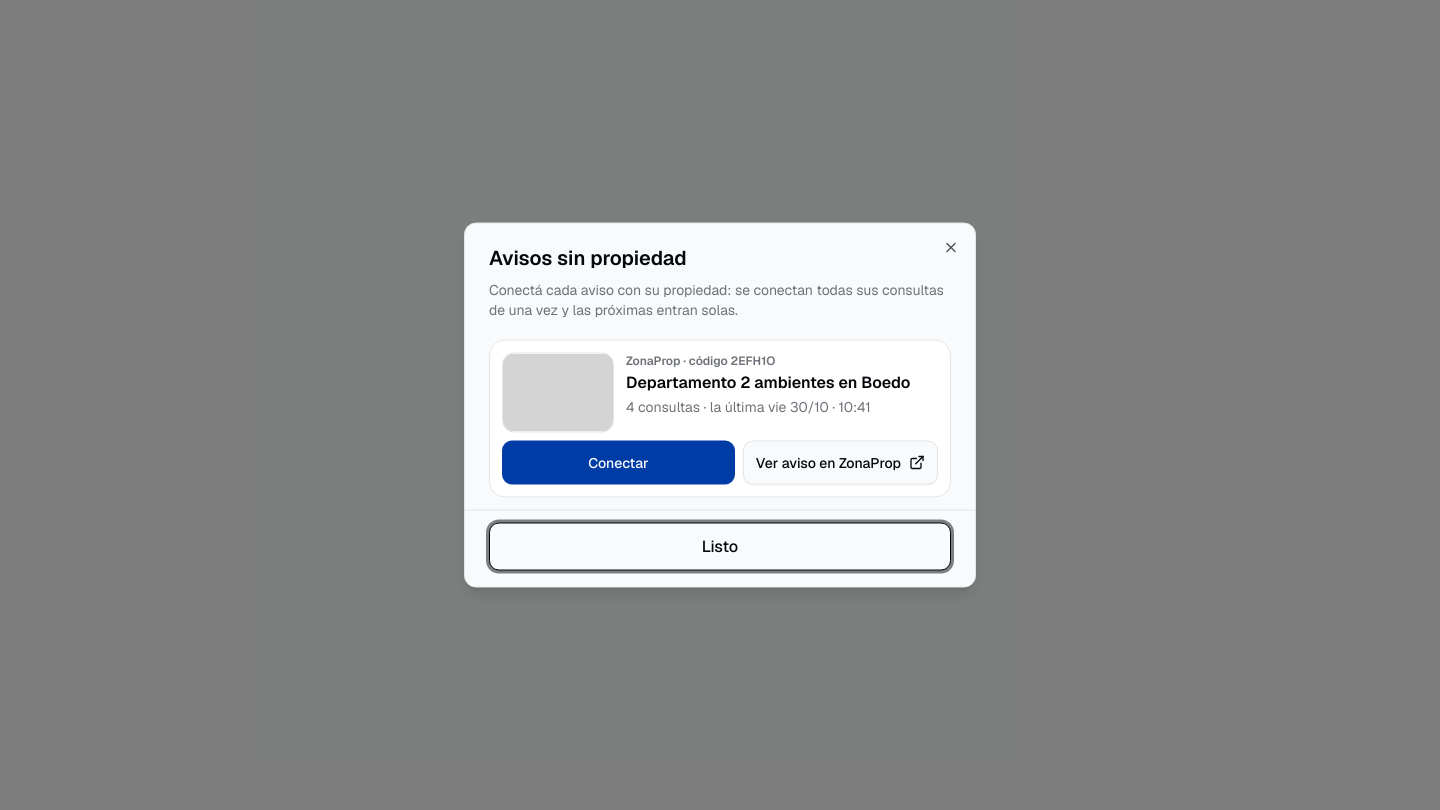
Test case: HojaAvisosSinPropiedad › pegar el link elige la propiedad si el aviso se publicó desde la plataforma
Click the button "Conectar" at coordinates (618, 462), box [502,440,735,484]
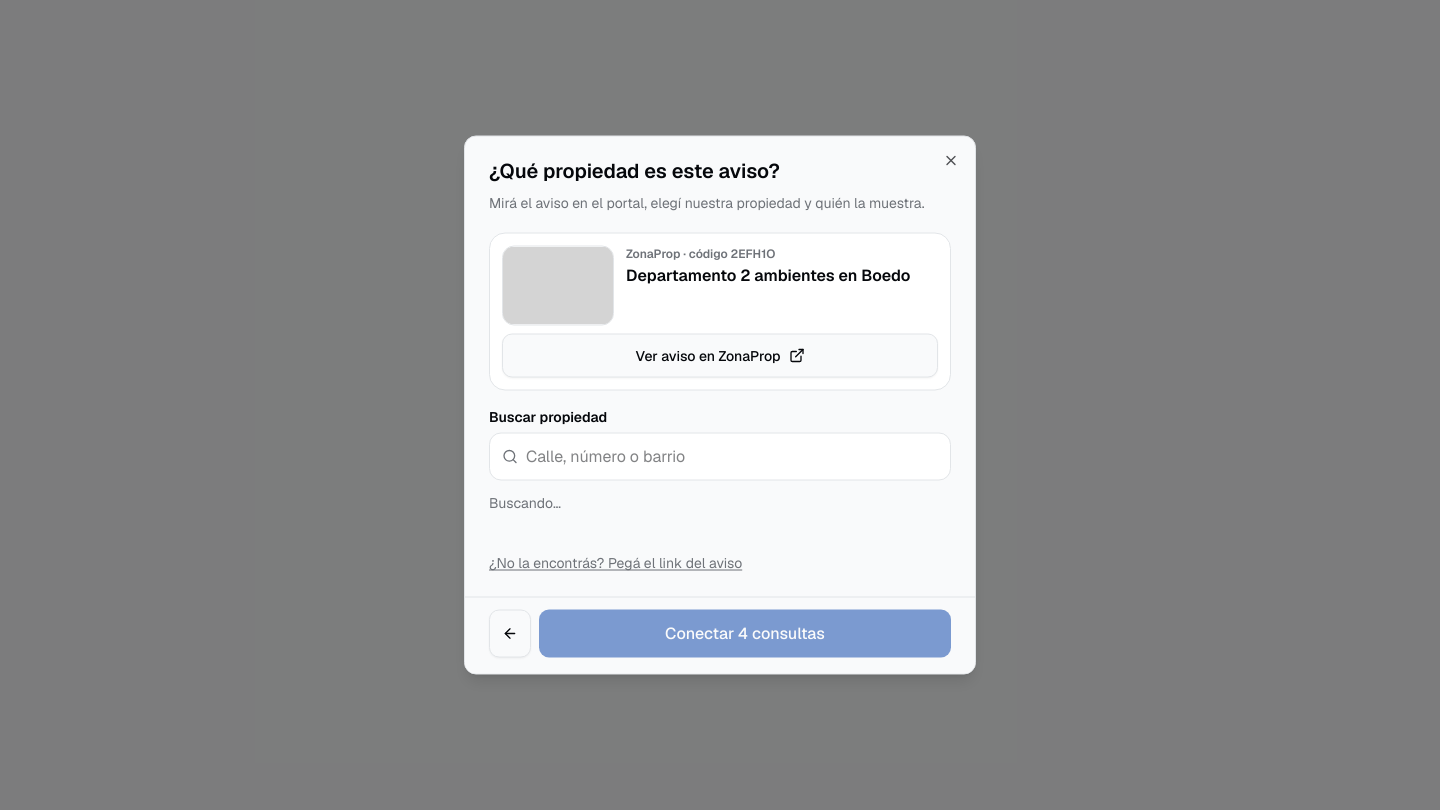
Click the button "¿No la encontrás? Pegá el link del aviso" at coordinates (616, 562), box [489,540,742,584]
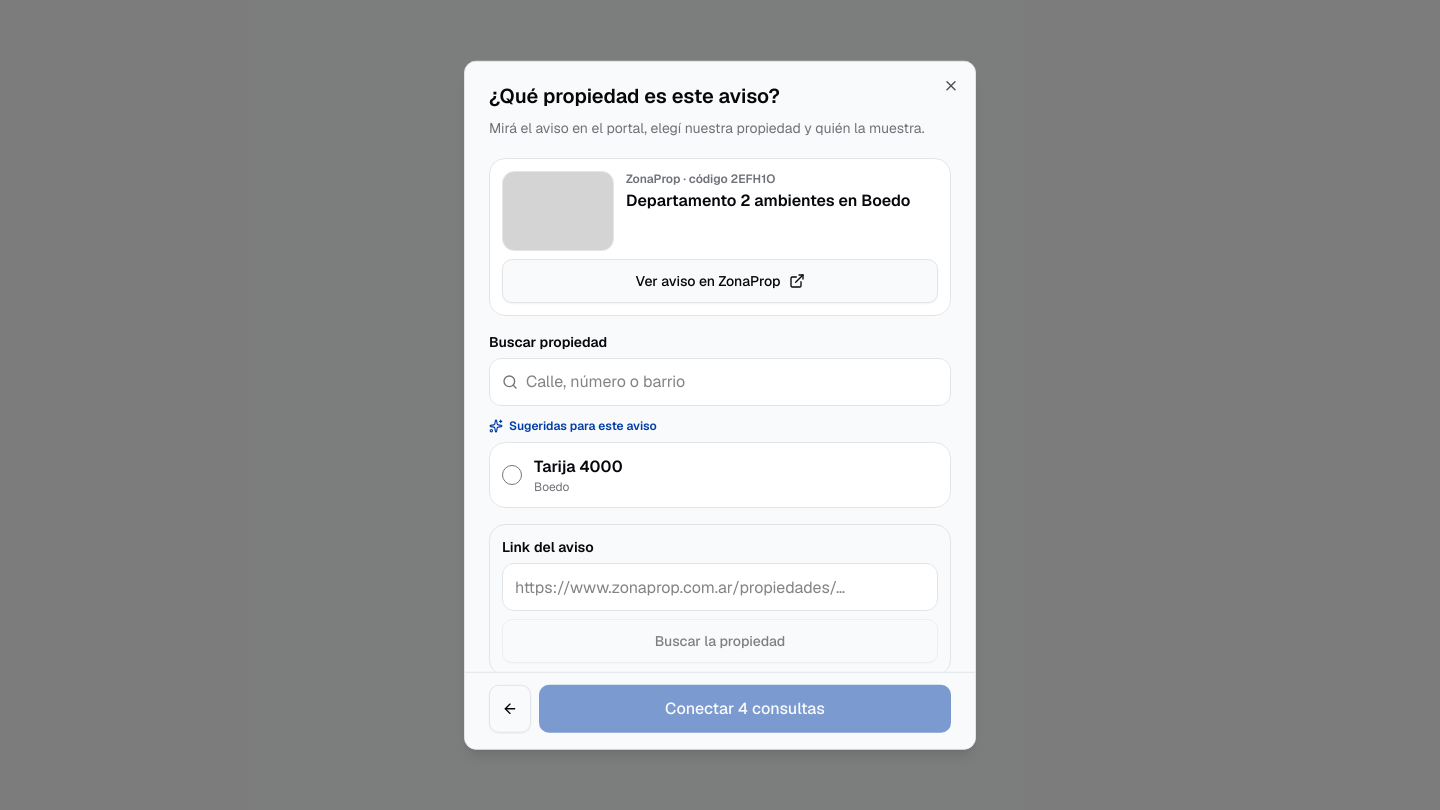
Type "https://www.zonaprop.com.ar/propiedades/clasificado/veclapin-venta-departamento-60360354.html" into the field labelled "Link del aviso" at coordinates (720, 587), box [502,563,938,611]
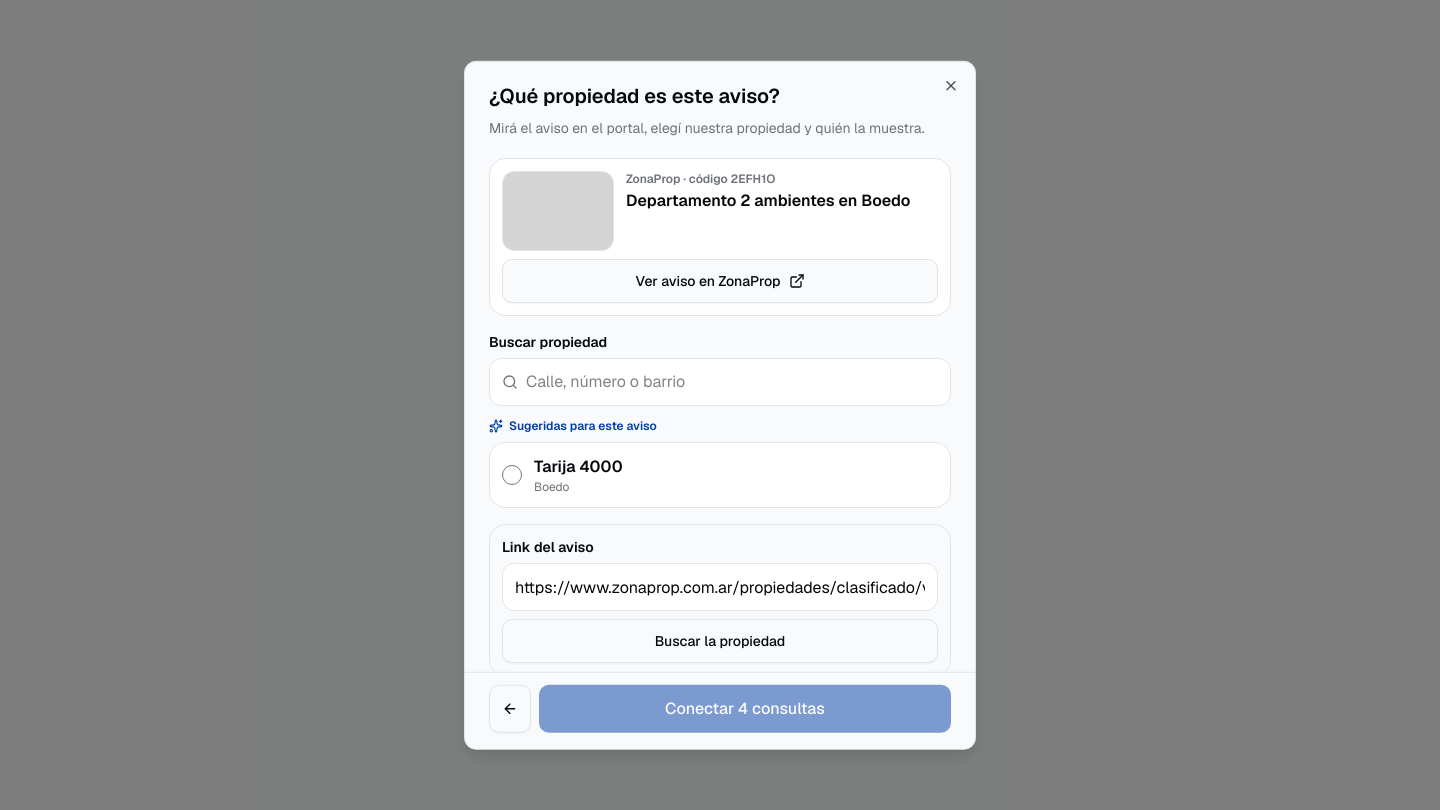
Click the button "Buscar la propiedad" at coordinates (720, 641), box [502,619,938,663]
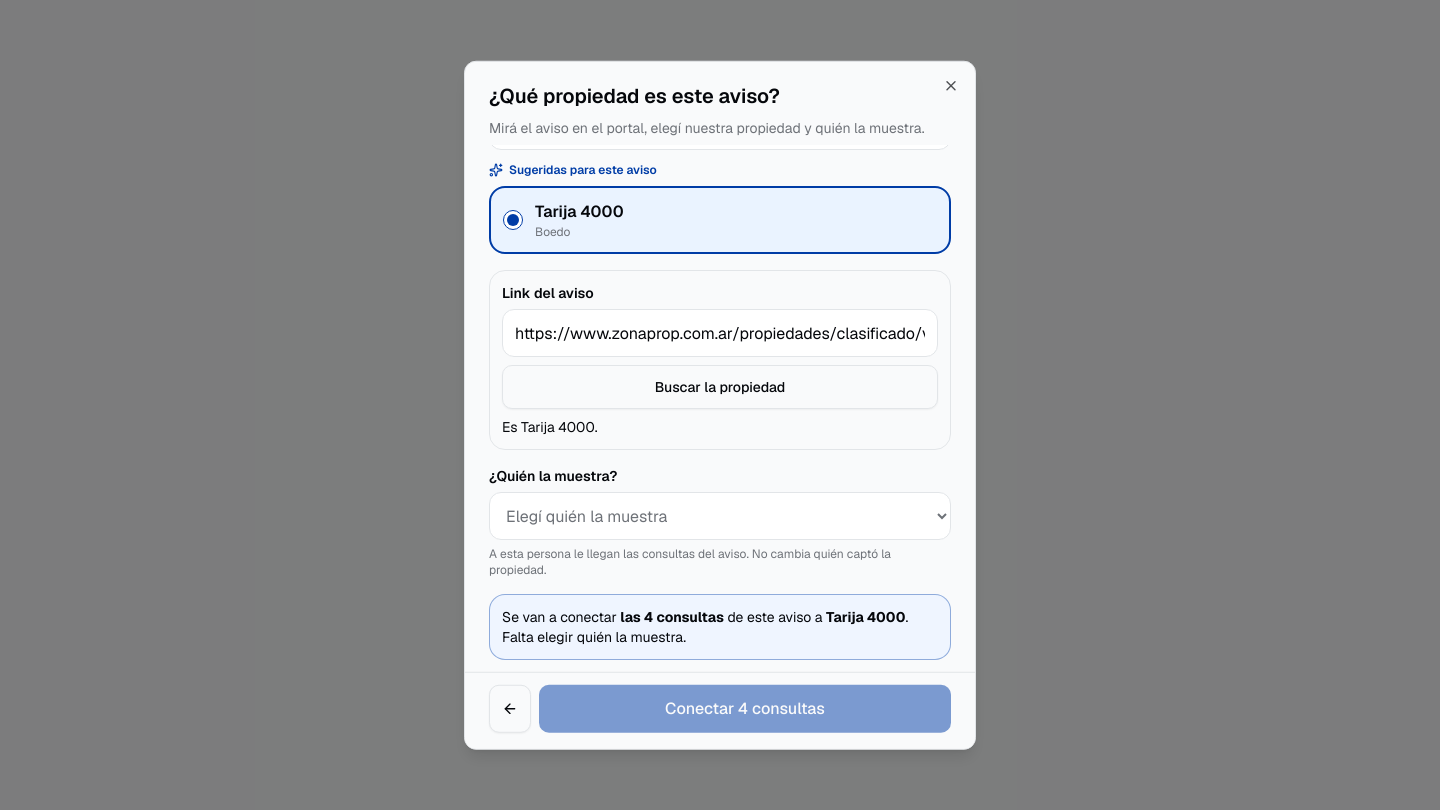
Expected: the text "Es Tarija 4000." is shown, [502,418,598,436]
Expected: the dropdown labelled "Quién la muestra" is shown, [489,492,951,540]
